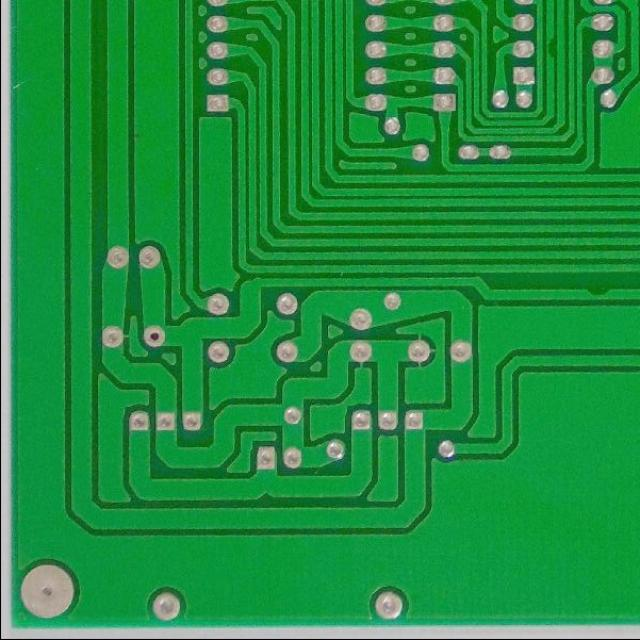Missing_Hole: (140, 324, 166, 348)
MouseBite: (580, 282, 616, 302), (542, 32, 556, 61)
